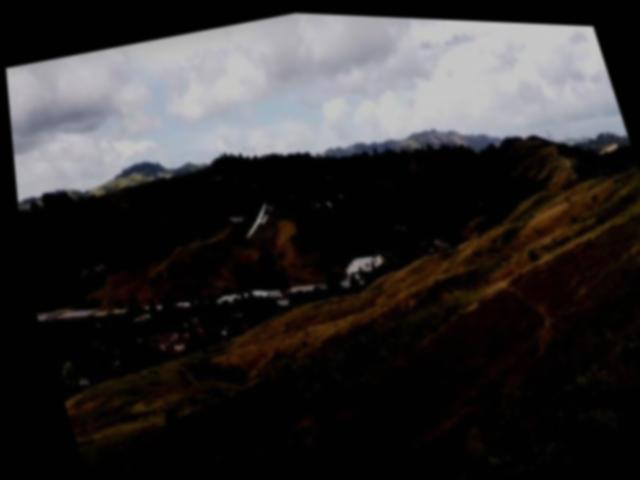iha: (233, 198, 271, 237)
